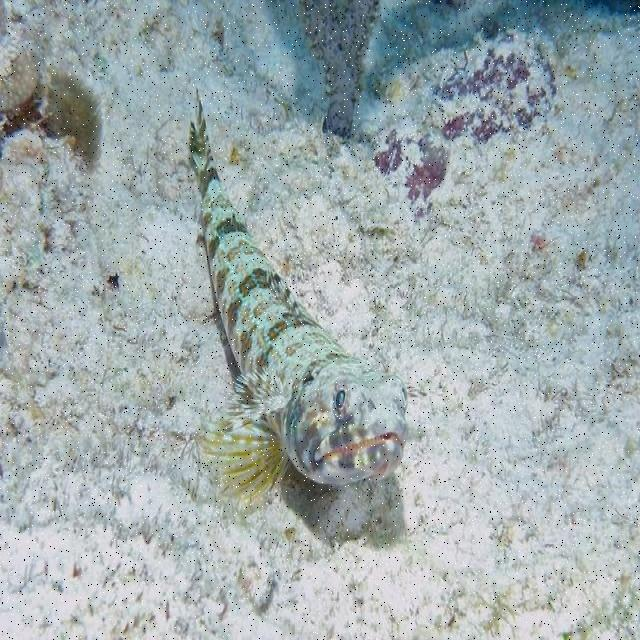fish: (189, 86, 409, 504)
reefs: (0, 42, 106, 174)
